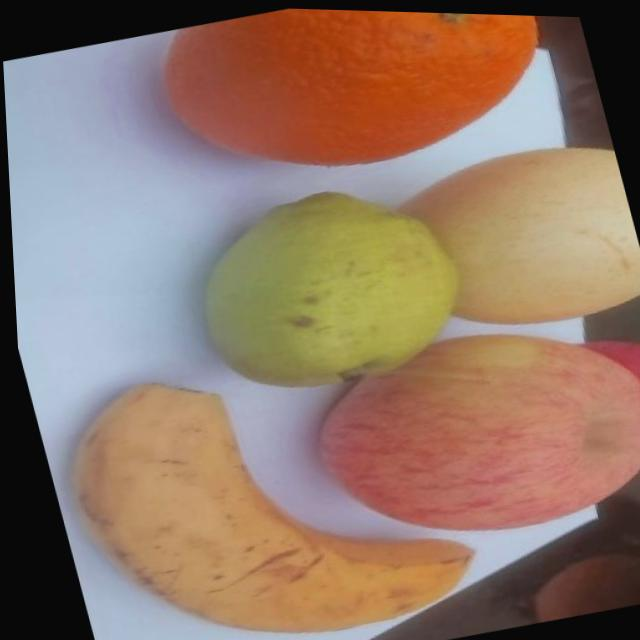Apple: (285, 291, 640, 567), (569, 315, 640, 453)
Banana: (40, 314, 488, 640)
Orange: (150, 3, 569, 204)
